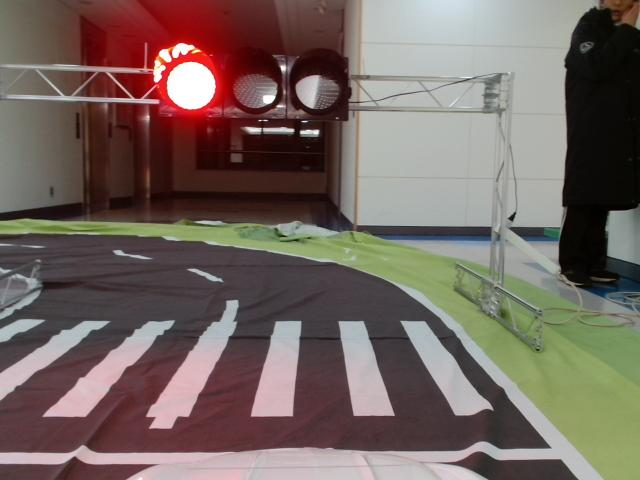crosswalk: (1, 318, 496, 419)
traffic light-red-: (155, 44, 351, 121)
